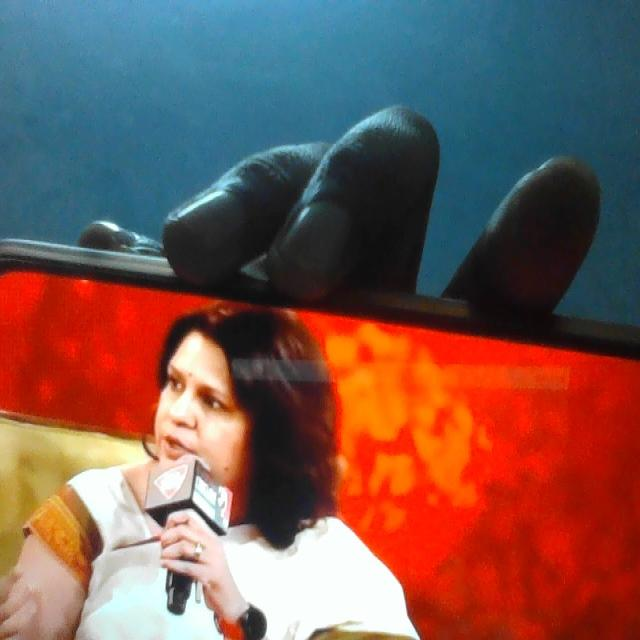fake: (148, 316, 256, 520)
